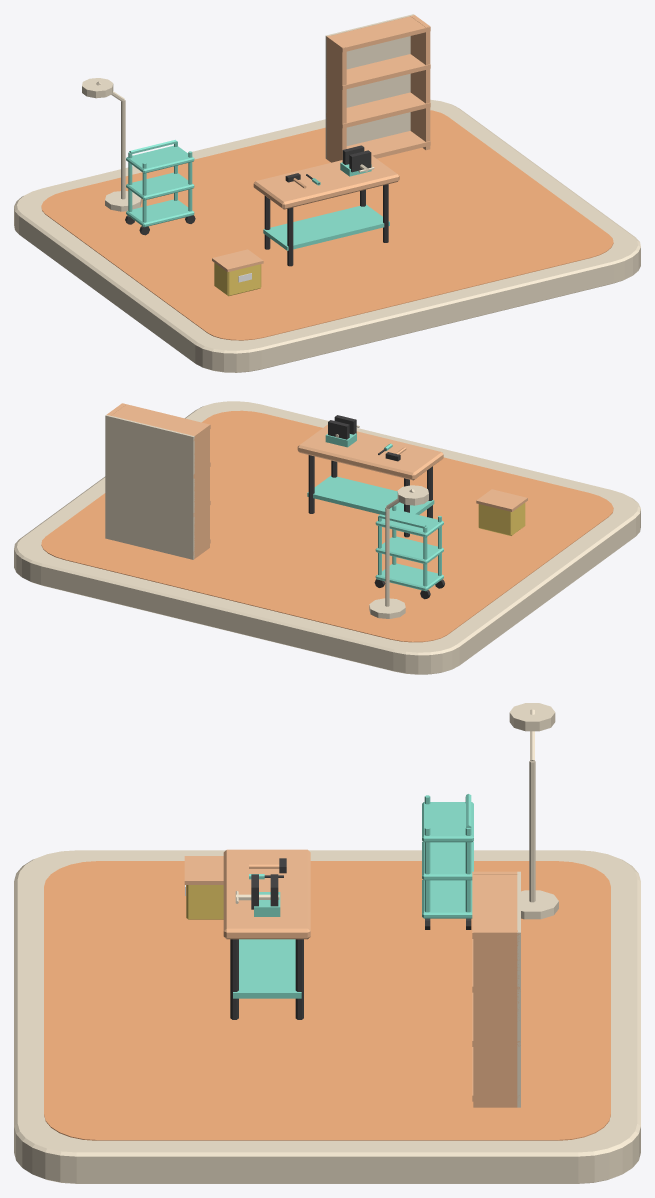
File: room.fbx
3 renders of one model, top to bottom at view 1: azimuth 30°, elevation 25°; view 2: azimuth 150°, elevation 25°; view 3: azimuth 270°, elevation 25°, orthographic. The views are drawn at different scales.
Visible parts, largest first — view 1: COM-02 Floor Surface, COM-01 Rounded Base Direct, Back, Worktop, Lower shelf, Side, Side.001, Shelf.003, Shelf.001, Shelf.002, Shelf, Tray.002 (+6 smaller); view 2: COM-02 Floor Surface, COM-01 Rounded Base Direct, Back, Worktop, Lower shelf, Side, Shelf.003, Box, Tray.001, Tray, Tray.002, Lid (+4 smaller); view 3: COM-02 Floor Surface, COM-01 Rounded Base Direct, Side.001, Worktop, Lower shelf, Shelf.003, Tray.002, Tray.001, Tray, Box, Lid, Lamp head (+5 smaller).
Part boxes in pixels (x1,y1,x2,y2): COM-02 Floor Surface: (41,110,613,340); COM-01 Rounded Base Direct: (14,99,640,372); Back: (325,14,413,158); Worktop: (253,155,399,209); Lower shelf: (263,204,389,250); Side: (326,35,346,162); Side.001: (410,15,430,150); Shelf.003: (326,16,430,52); Shelf.001: (326,92,430,128); Shelf.002: (326,54,430,89); Shelf: (326,131,430,161); Tray.002: (126,145,194,173); COM-02 Floor Surface: (41,410,613,642); COM-01 Rounded Base Direct: (14,401,640,674); Back: (105,414,194,559); Worktop: (297,424,443,480); Lower shelf: (307,475,434,515); Side: (190,424,209,558); Shelf.003: (111,403,210,440); Box: (478,503,525,535); Tray.001: (375,536,443,564); Tray: (375,563,443,591); Tray.002: (375,509,443,537); Lid: (476,489,527,511); COM-02 Floor Surface: (44,861,610,1140); COM-01 Rounded Base Direct: (14,850,640,1183); Side.001: (473,929,518,1107); Worktop: (223,849,310,939); Lower shelf: (233,939,301,998); Shelf.003: (472,871,520,938); Tray.002: (422,802,473,842); Tray.001: (422,841,473,880); Tray: (422,880,472,918); Box: (186,885,223,919); Lid: (184,856,223,884); Lamp head: (509,703,555,731).
Size of the model in its own units: 600 by 196 by 520.
